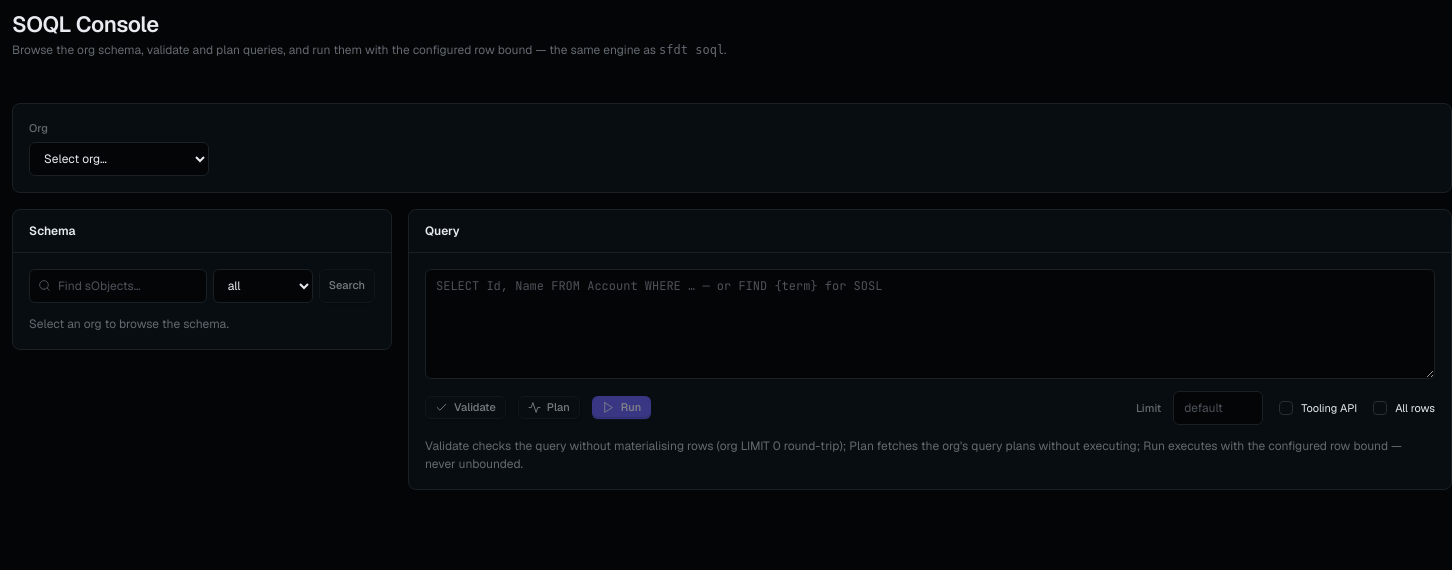
Test: SoqlConsolePage › runs a bounded query and renders the results table with bound metadata
Replace the text in the text box named "Query editor" with "SELECT Id, Name FROM Account" at (930, 324), box 425,269 -> 1435,379
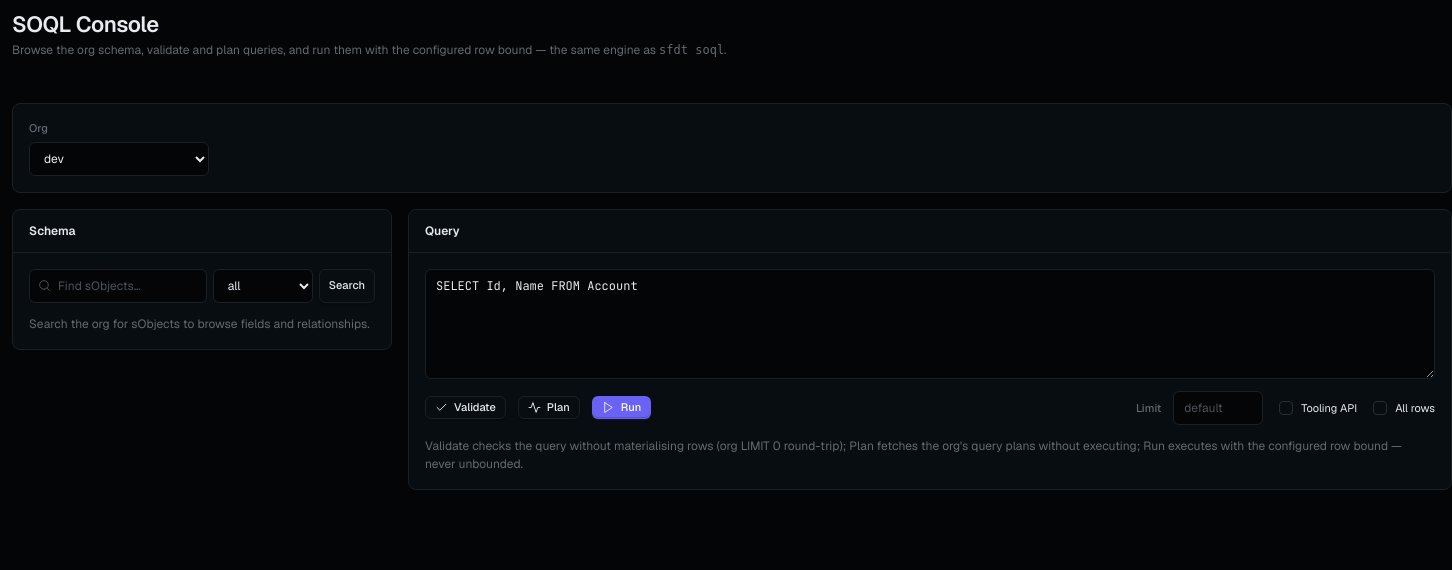
Click the button "Run" at (621, 408), box 592,396 -> 651,419
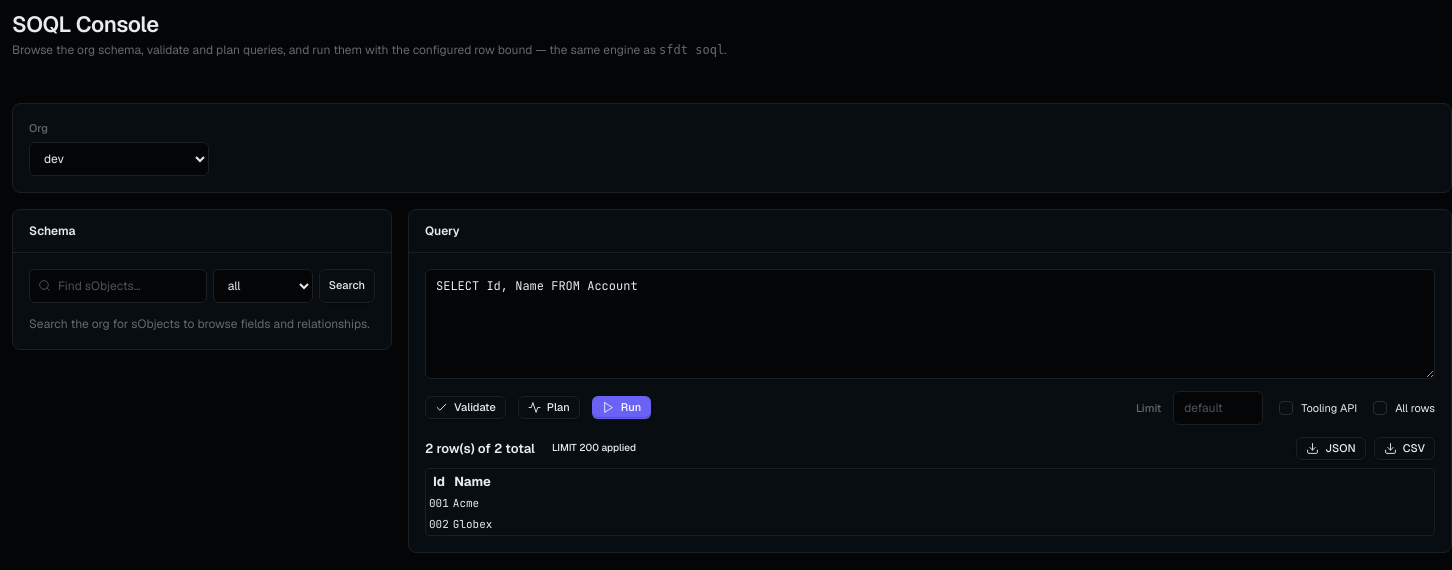
expect the text "Acme" is shown: met, box 452,494 -> 493,513
expect the text "Globex" is shown: met, box 452,515 -> 493,533
expect the text "2 row(s) of 2 total" is shown: met, box 425,438 -> 535,458
